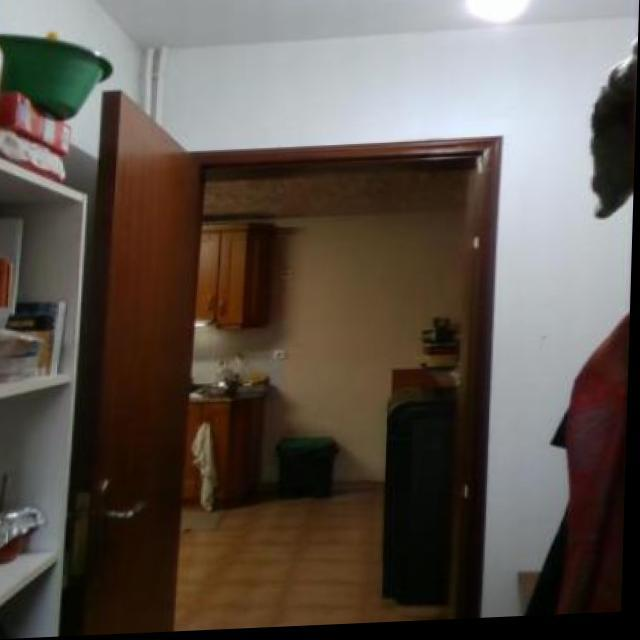door_handle: (99, 501, 174, 528)
